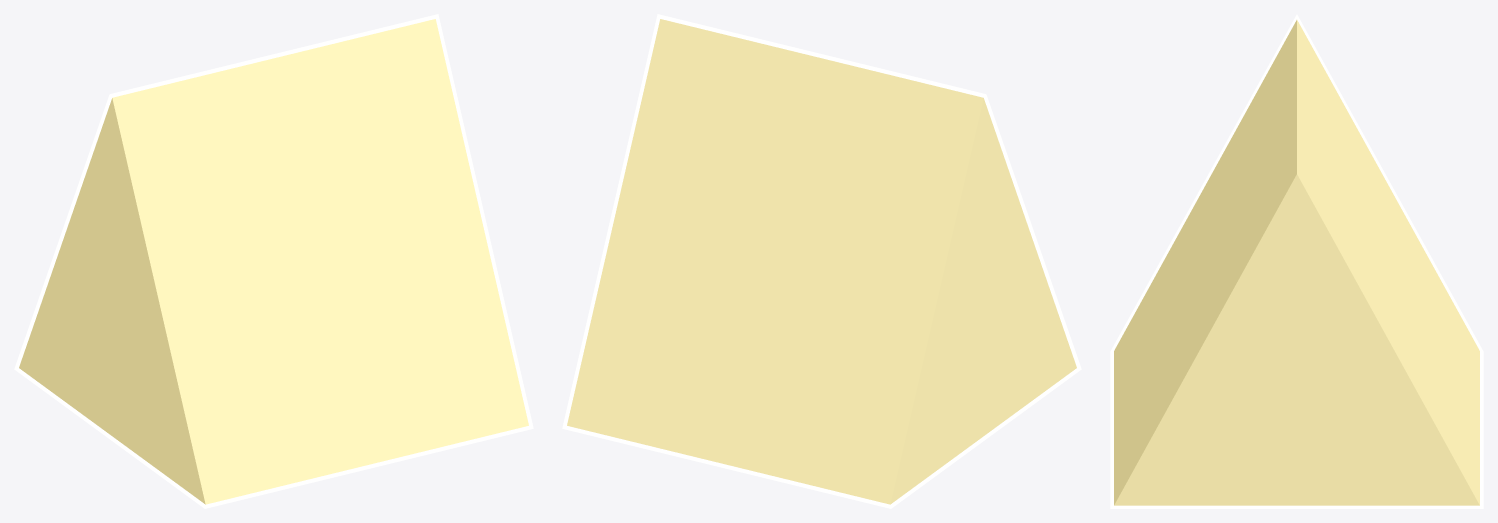
The model's file is LFD Prism.glb.
3 renders of one model, left to right at view 1: azimuth 30°, elevation 25°; view 2: azimuth 150°, elevation 25°; view 3: azimuth 270°, elevation 25°, orthographic. The views are drawn at different scales.
Parts seen in each view (by area): view 1: Cube; view 2: Cube; view 3: Cube.
Boxes of the visible parts, box(x1,y1,x2,y2) form: Cube: box(14, 14, 533, 508); Cube: box(562, 14, 1081, 508); Cube: box(1110, 14, 1483, 508).
Bounding box in the file's own units: 2.03 × 2.04 × 2.04.
